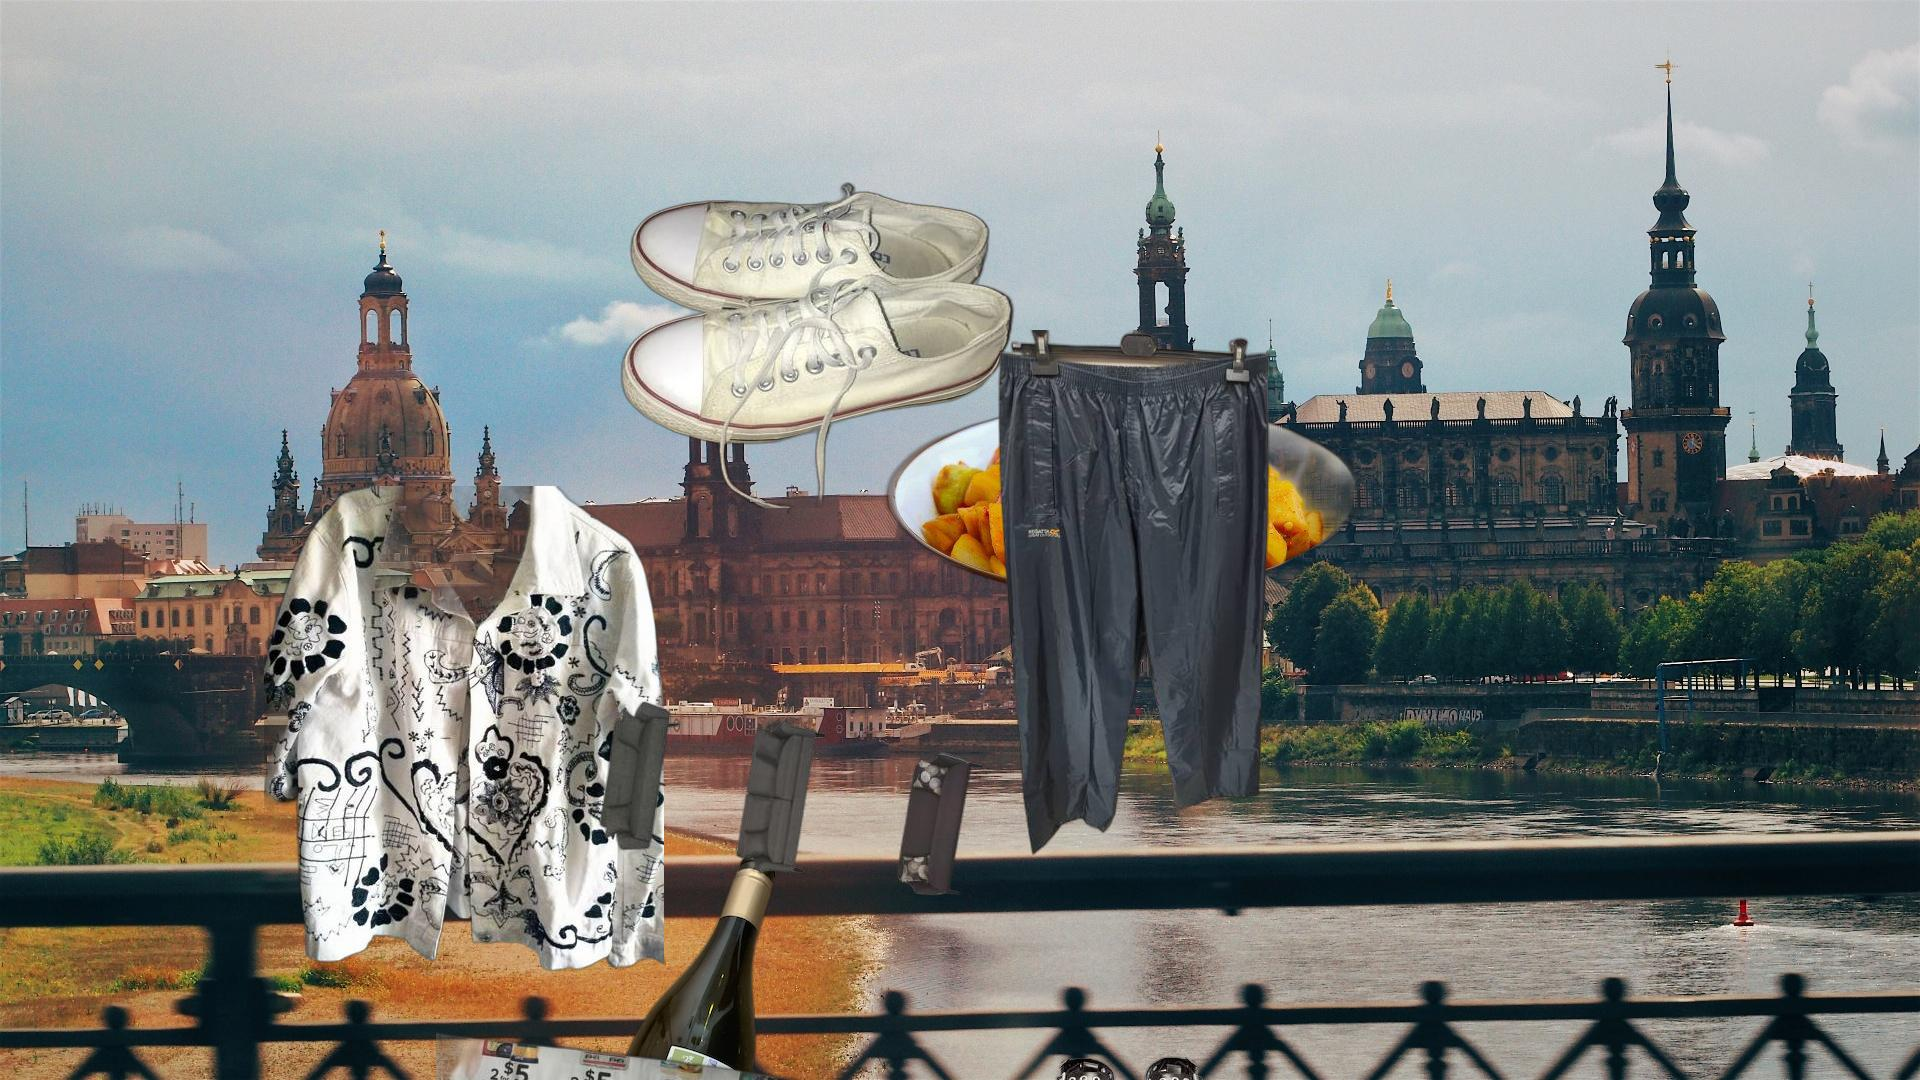biological: (880, 398, 1456, 676)
clothes: (264, 487, 665, 976), (996, 330, 1273, 858)
glass: (489, 847, 781, 1080)
paper: (595, 698, 988, 899), (436, 1029, 881, 1080)
shoes: (617, 179, 1017, 508), (1043, 1054, 1222, 1080)
